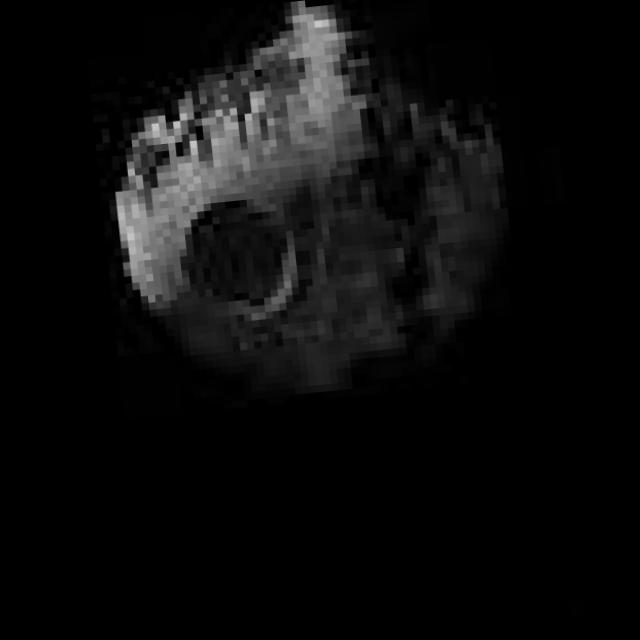Death Star: (83, 0, 532, 419)
